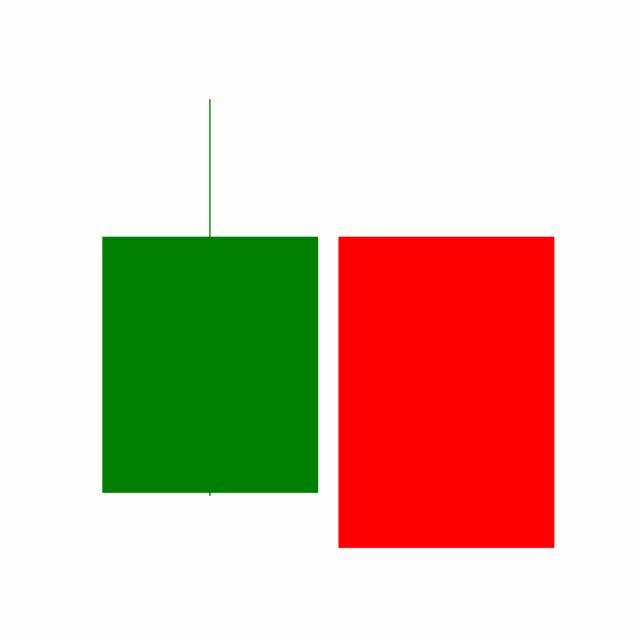Marubozu: (328, 234, 566, 552)
